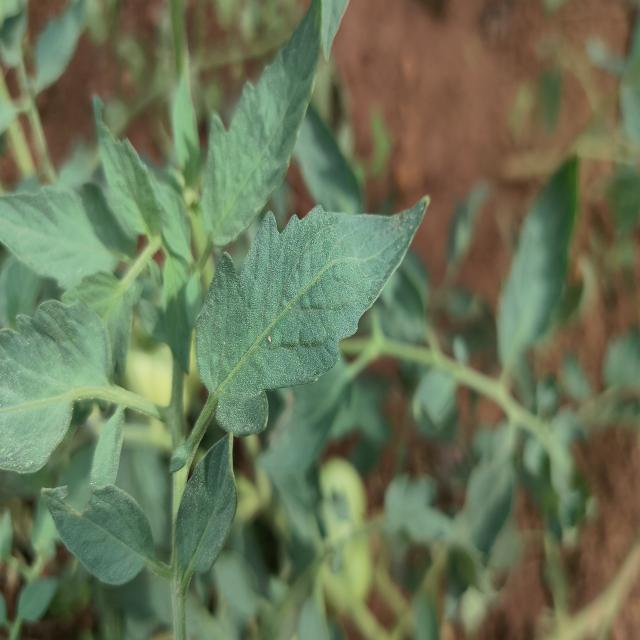tomato_healthy: (196, 199, 426, 435), (202, 0, 322, 246), (0, 299, 163, 472), (41, 482, 170, 582), (0, 185, 118, 288), (93, 94, 161, 237), (175, 432, 237, 581)
